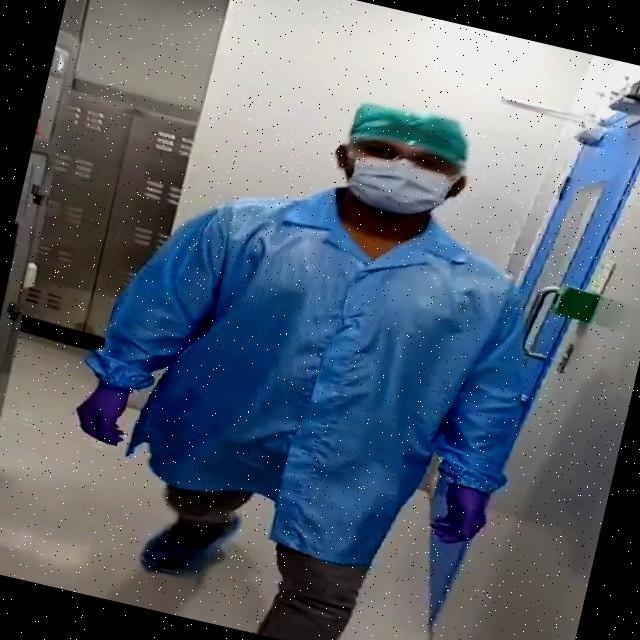apron: (65, 362, 138, 450), (430, 479, 494, 552)
